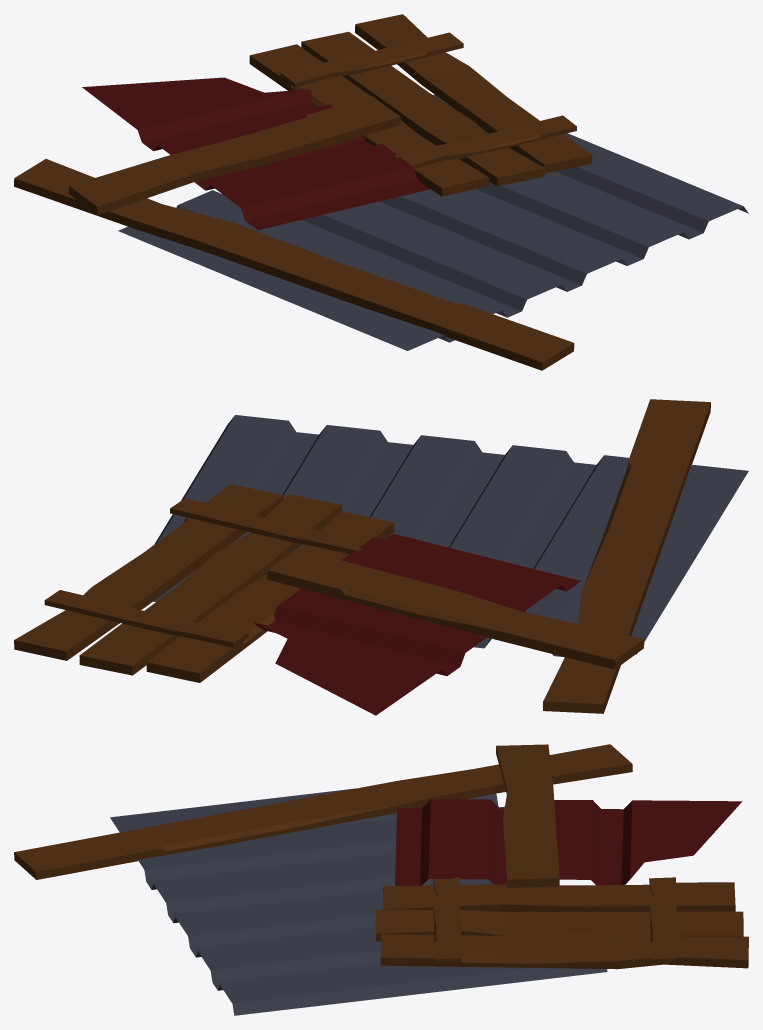
File: Debris_Pile.obj
3 renders of one model, top to bottom at view 1: azimuth 30°, elevation 25°; view 2: azimuth 150°, elevation 25°; view 3: azimuth 270°, elevation 25°, orthographic. The views are drawn at different scales.
Parts seen in each view (by area): view 1: Debris_Pile_Cube.319; view 2: Debris_Pile_Cube.319; view 3: Debris_Pile_Cube.319.
Part boxes in pixels (bbox=[...]): Debris_Pile_Cube.319: bbox=[14, 14, 748, 370]; Debris_Pile_Cube.319: bbox=[14, 399, 748, 715]; Debris_Pile_Cube.319: bbox=[14, 744, 748, 1015].
Bounding box in the file's own units: 2.12 × 0.1635 × 2.63.
